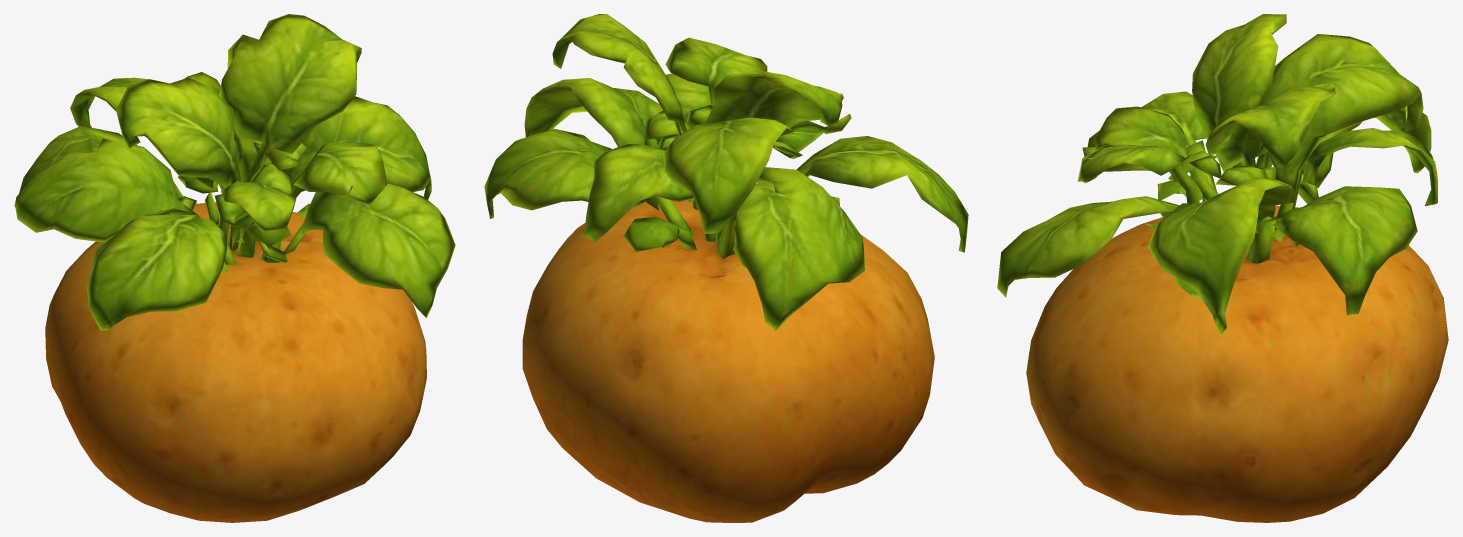
Rendered from potato.glb.
The picture shows the model from 3 angles, left to right: view 1: azimuth 30°, elevation 25°; view 2: azimuth 150°, elevation 25°; view 3: azimuth 270°, elevation 25°; orthographic projection. The views are drawn at different scales.
Bounding box in the file's own units: 0.9453 × 1 × 0.9121.
Materials: 1 (1 with a texture image).
